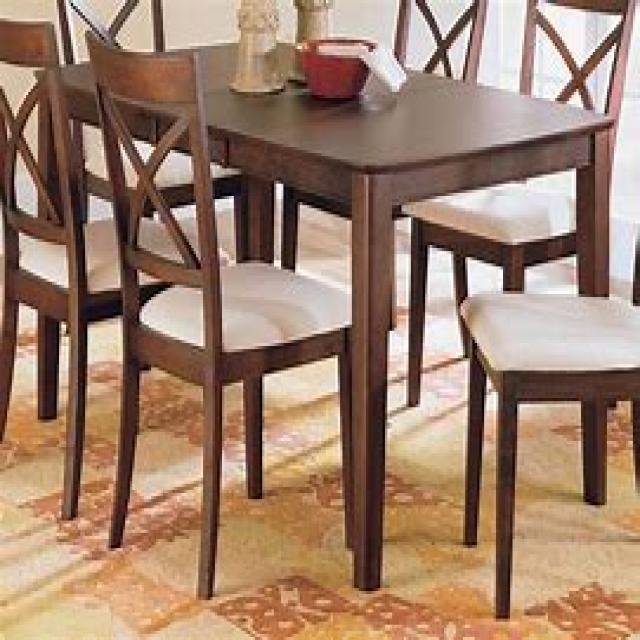chair: (80, 28, 357, 597), (0, 15, 243, 518), (401, 0, 635, 407), (458, 221, 638, 618), (279, 0, 489, 322)
table: (33, 37, 616, 588)
